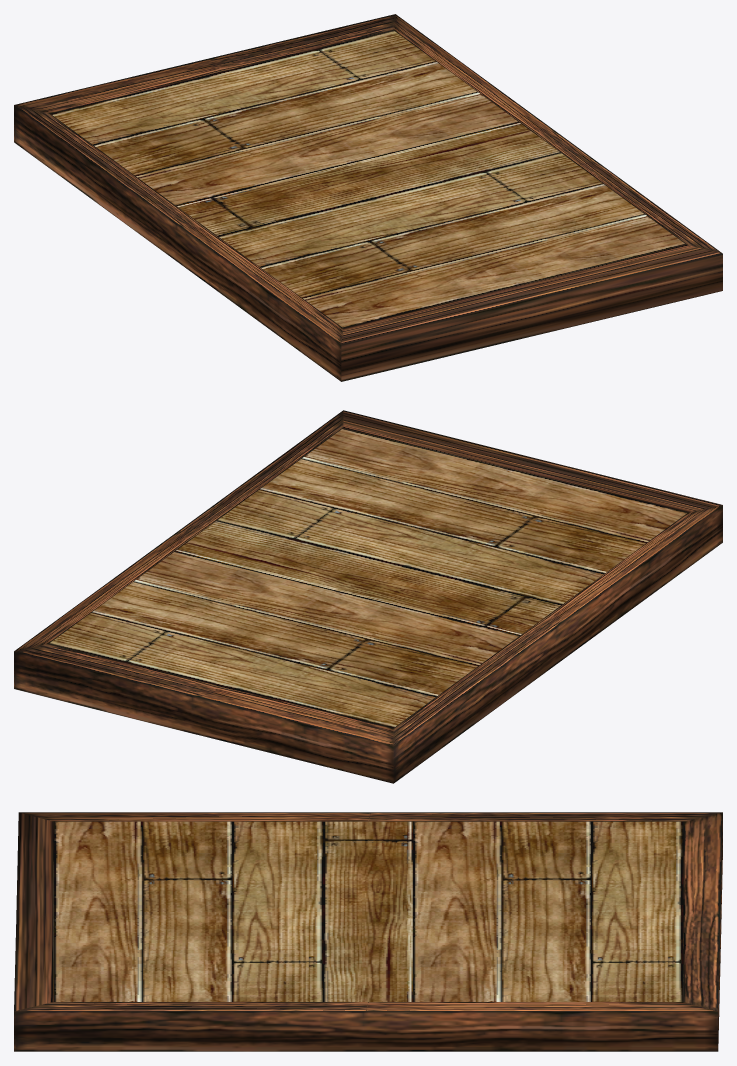
Rendered from LAKETOWN_WAREHOUSE3_PS_WH3_PLAT47474.fbx.
3 views of the same model, one above another, from view 1: azimuth 30°, elevation 25°; view 2: azimuth 150°, elevation 25°; view 3: azimuth 270°, elevation 25° (orthographic). The views are drawn at different scales.
Visible parts, largest first — view 1: LAKETOWN_WAREHOUSE3_PS_WH3_PLAT47474; view 2: LAKETOWN_WAREHOUSE3_PS_WH3_PLAT47474; view 3: LAKETOWN_WAREHOUSE3_PS_WH3_PLAT47474.
Boxes of the visible parts, x1=… form: LAKETOWN_WAREHOUSE3_PS_WH3_PLAT47474: x1=14, y1=14, x2=722, y2=381; LAKETOWN_WAREHOUSE3_PS_WH3_PLAT47474: x1=14, y1=410, x2=722, y2=783; LAKETOWN_WAREHOUSE3_PS_WH3_PLAT47474: x1=14, y1=812, x2=722, y2=1051.
Bounding box in the file's own units: 20816 × 1959 × 31303.
2 materials, 2 textured.
